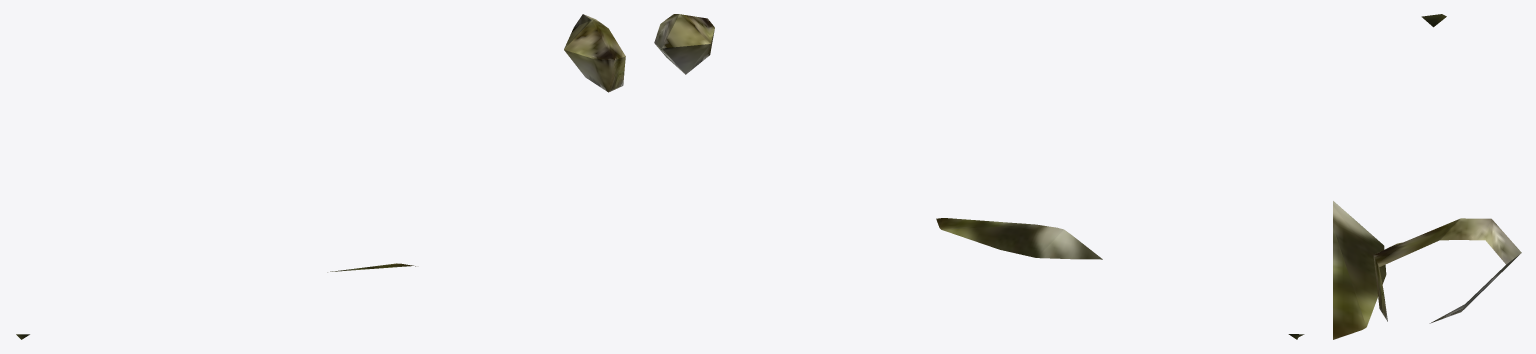
The picture shows the model from 3 angles, left to right: view 1: azimuth 30°, elevation 25°; view 2: azimuth 150°, elevation 25°; view 3: azimuth 270°, elevation 25°; orthographic projection. The views are drawn at different scales.
Size of the model in its own units: 0.8374 by 0.2292 by 0.1304.
1 material, 1 textured.
